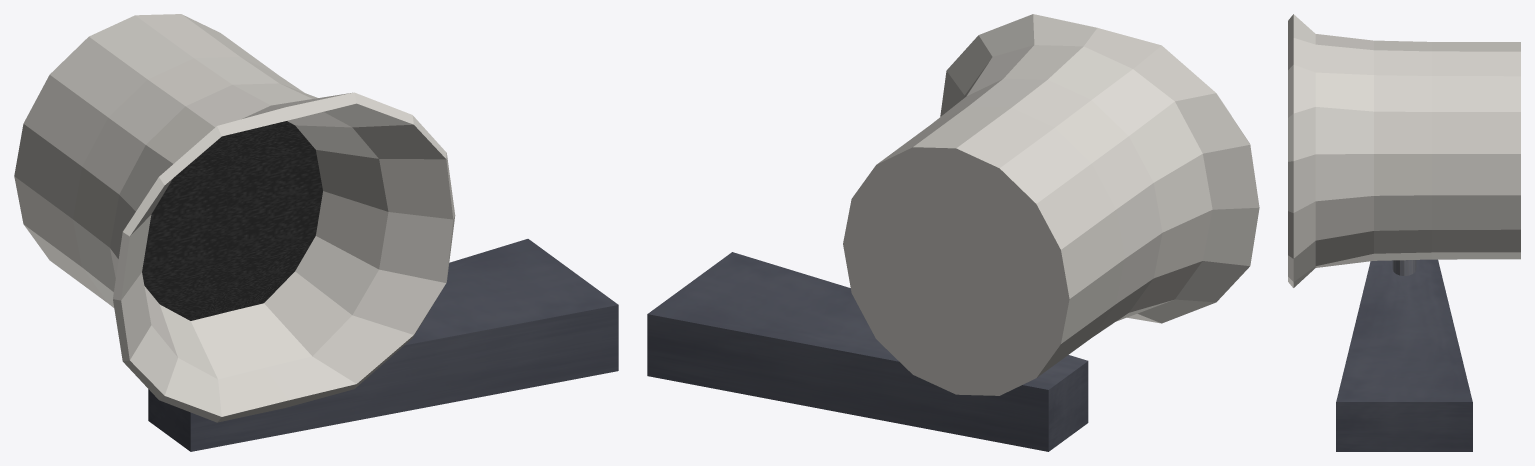
Rendered from Lautsprecher 1.fbx.
3 views of the same model, side by side, from view 1: azimuth 30°, elevation 25°; view 2: azimuth 150°, elevation 25°; view 3: azimuth 270°, elevation 25° (orthographic). The views are drawn at different scales.
Visible parts, largest first — view 1: Cylinder; view 2: Cylinder; view 3: Cylinder.
Boxes of the visible parts, x1,y1,x2,y2 form: Cylinder: [14, 14, 618, 451]; Cylinder: [647, 14, 1259, 451]; Cylinder: [1288, 14, 1520, 451].
Bounding box in the file's own units: 60 × 40 × 30.
